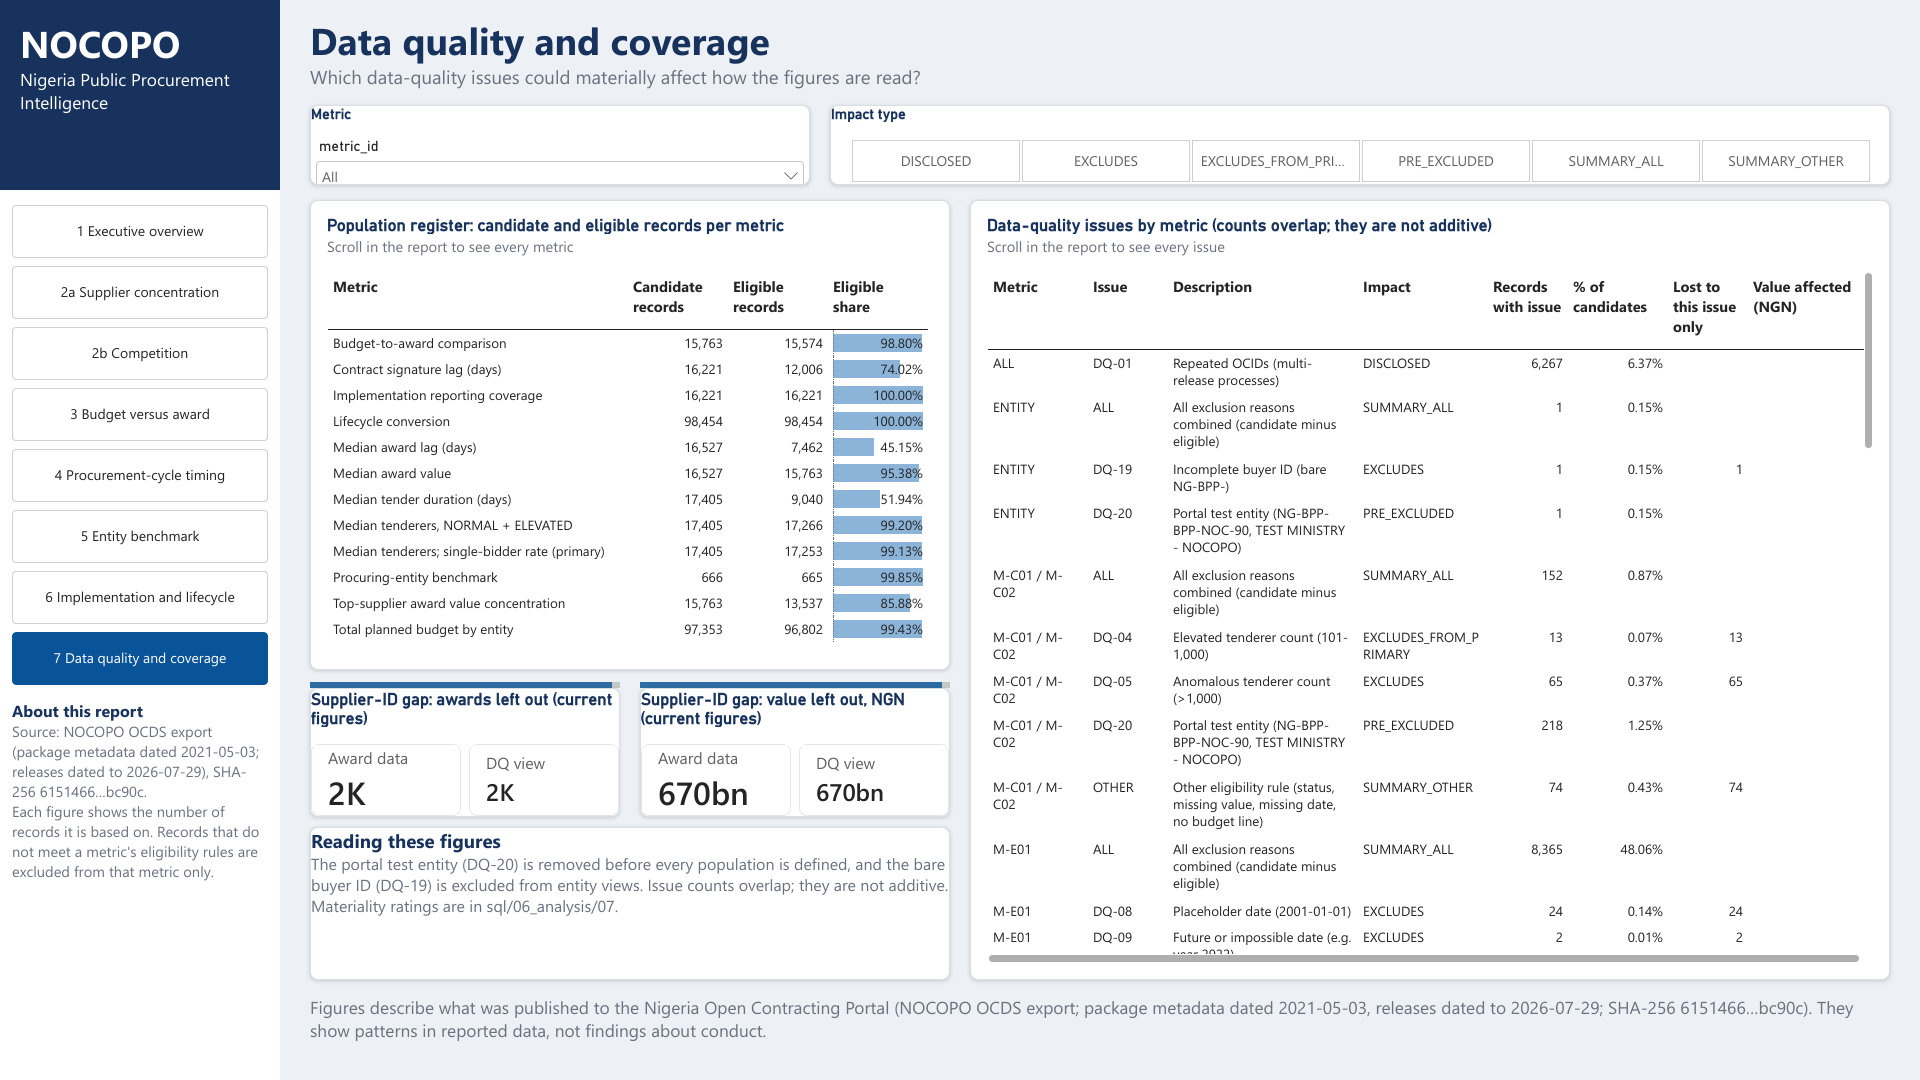

This screenshot's page, from the dashboard's own definition file:
{"tool":"powerbi","page":{"name":"7 Data quality and coverage","canvas":[1920,1080],"ordinal":7},"visuals":[{"type":"textbox","box":[0,0,280,190],"z":0},{"type":"textbox","box":[0,190,280,890],"z":1},{"type":"textbox","box":[20,18,250,150],"z":2},{"type":"pageNavigator","box":[12,205,256,480],"z":3},{"type":"textbox","box":[12,700,256,360],"z":4},{"type":"textbox","box":[310,15,1580,80],"z":5},{"type":"textbox","box":[310,995,1580,70],"z":6},{"type":"slicer","title":"Metric","fields":{"Values":["DQImpact.metric_id"]},"box":[310,105,500,80],"z":7},{"type":"slicer","title":"Impact type","fields":{"Values":["DQImpact.impact_type"]},"box":[830,105,1060,80],"z":8},{"type":"tableEx","title":"Population register: candidate and eligible records per metric","fields":{"Values":["MetricPopulation.metric_name","_Measures.Candidate Records","_Measures.Eligible Records","_Measures.Eligible Share"]},"box":[310,200,640,470],"z":9},{"type":"tableEx","title":"Data-quality issues by metric (counts overlap; they are not additive)","fields":{"Values":["DQImpact.metric_id","DQImpact.dq_ref","DQImpact.dq_issue","DQImpact.impact_type","_Measures.Issue Records","_Measures.Issue % of Candidates","_Measures.Lost To This Issue Only","_Measures.Issue Value (NGN)"]},"box":[970,200,920,780],"z":10},{"type":"textbox","box":[310,682,310,6],"z":11},{"type":"cardVisual","title":"Supplier-ID gap: awards left out (current figures)","fields":{"Data":["_Measures.M-S01 Excluded Awards","_Measures.M-S01 Excluded Awards (DQ view)"]},"box":[310,688,310,129],"z":12},{"type":"textbox","box":[640,682,310,6],"z":13},{"type":"cardVisual","title":"Supplier-ID gap: value left out, NGN (current figures)","fields":{"Data":["_Measures.M-S01 Excluded Value (NGN)","_Measures.M-S01 Excluded Value (DQ view)"]},"box":[640,688,310,129],"z":14},{"type":"textbox","box":[310,827,640,153],"z":15}]}

Visuals, with their boxes in screenshot pixels (x1, y1, x2, y2), scaled from the page's 1920x1080 canvas onto the 1920x1080 screenshot:
textbox: select_region(0, 0, 280, 190)
textbox: select_region(0, 190, 280, 1079)
textbox: select_region(20, 18, 270, 168)
pageNavigator: select_region(12, 205, 268, 685)
textbox: select_region(12, 700, 268, 1060)
textbox: select_region(310, 15, 1890, 95)
textbox: select_region(310, 995, 1890, 1065)
"Metric" slicer: select_region(310, 105, 810, 185)
"Impact type" slicer: select_region(830, 105, 1890, 185)
"Population register: candidate and eligible records per metric" tableEx: select_region(310, 200, 950, 670)
"Data-quality issues by metric (counts overlap; they are not additive)" tableEx: select_region(970, 200, 1890, 980)
textbox: select_region(310, 682, 620, 688)
"Supplier-ID gap: awards left out (current figures)" cardVisual: select_region(310, 688, 620, 817)
textbox: select_region(640, 682, 950, 688)
"Supplier-ID gap: value left out, NGN (current figures)" cardVisual: select_region(640, 688, 950, 817)
textbox: select_region(310, 827, 950, 980)
